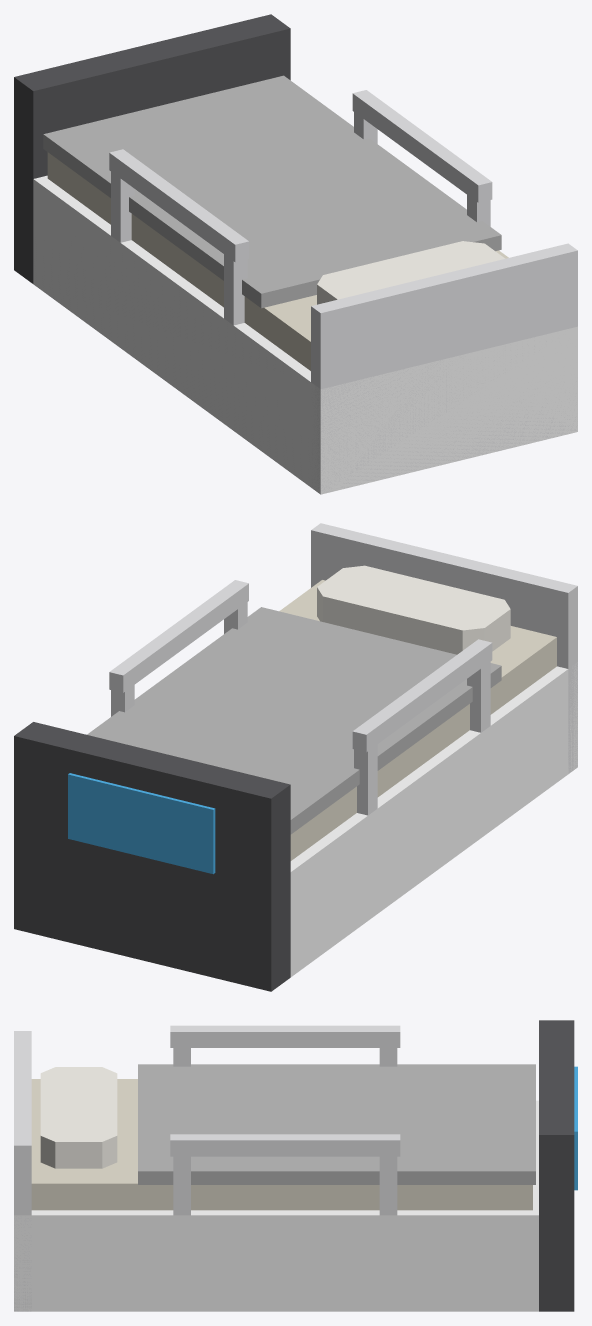
The model's file is vge_medbay_bed.obj.
3 renders of one model, top to bottom at view 1: azimuth 30°, elevation 25°; view 2: azimuth 150°, elevation 25°; view 3: azimuth 270°, elevation 25°, orthographic. The views are drawn at different scales.
Visible parts, largest first — view 1: vge_medbay_bed_0, vge_medbay_bed_2, vge_medbay_bed_4, vge_medbay_bed_11, vge_medbay_bed_1, vge_medbay_bed_3, vge_medbay_bed_10, vge_medbay_bed_7, vge_medbay_bed_5, vge_medbay_bed_6; view 2: vge_medbay_bed_11, vge_medbay_bed_2, vge_medbay_bed_0, vge_medbay_bed_4, vge_medbay_bed_3, vge_medbay_bed_12, vge_medbay_bed_1, vge_medbay_bed_7, vge_medbay_bed_10, vge_medbay_bed_6, vge_medbay_bed_5, vge_medbay_bed_9; view 3: vge_medbay_bed_0, vge_medbay_bed_2, vge_medbay_bed_1, vge_medbay_bed_11, vge_medbay_bed_3, vge_medbay_bed_7, vge_medbay_bed_10, vge_medbay_bed_4, vge_medbay_bed_9, vge_medbay_bed_8, vge_medbay_bed_6, vge_medbay_bed_5 (+1 smaller).
Part boxes in pixels (bbox=[...]): vge_medbay_bed_0: bbox=[33, 175, 577, 494]; vge_medbay_bed_2: bbox=[43, 75, 501, 308]; vge_medbay_bed_4: bbox=[311, 243, 577, 493]; vge_medbay_bed_11: bbox=[14, 14, 290, 283]; vge_medbay_bed_1: bbox=[47, 152, 508, 370]; vge_medbay_bed_3: bbox=[317, 241, 505, 304]; vge_medbay_bed_10: bbox=[352, 90, 492, 202]; vge_medbay_bed_7: bbox=[109, 149, 248, 262]; vge_medbay_bed_5: bbox=[224, 243, 247, 325]; vge_medbay_bed_6: bbox=[111, 160, 134, 242]; vge_medbay_bed_11: bbox=[14, 722, 290, 991]; vge_medbay_bed_2: bbox=[87, 607, 501, 834]; vge_medbay_bed_0: bbox=[290, 662, 577, 977]; vge_medbay_bed_4: bbox=[311, 523, 577, 773]; vge_medbay_bed_3: bbox=[317, 565, 510, 654]; vge_medbay_bed_12: bbox=[68, 773, 215, 874]; vge_medbay_bed_1: bbox=[279, 580, 556, 860]; vge_medbay_bed_7: bbox=[352, 639, 492, 752]; vge_medbay_bed_10: bbox=[109, 580, 248, 692]; vge_medbay_bed_6: bbox=[354, 733, 377, 815]; vge_medbay_bed_5: bbox=[467, 654, 490, 732]; vge_medbay_bed_9: bbox=[111, 673, 134, 716]; vge_medbay_bed_0: bbox=[14, 1100, 538, 1311]; vge_medbay_bed_2: bbox=[138, 1064, 535, 1184]; vge_medbay_bed_1: bbox=[31, 1079, 532, 1210]; vge_medbay_bed_11: bbox=[539, 1020, 574, 1311]; vge_medbay_bed_3: bbox=[40, 1067, 117, 1168]; vge_medbay_bed_7: bbox=[170, 1025, 400, 1047]; vge_medbay_bed_10: bbox=[170, 1134, 400, 1156]; vge_medbay_bed_4: bbox=[14, 1031, 31, 1311]; vge_medbay_bed_9: bbox=[379, 1145, 397, 1215]; vge_medbay_bed_8: bbox=[173, 1145, 190, 1215]; vge_medbay_bed_6: bbox=[379, 1037, 397, 1066]; vge_medbay_bed_5: bbox=[173, 1037, 190, 1066].
Bounding box in the file's own units: 0.92 × 0.66 × 1.91.
